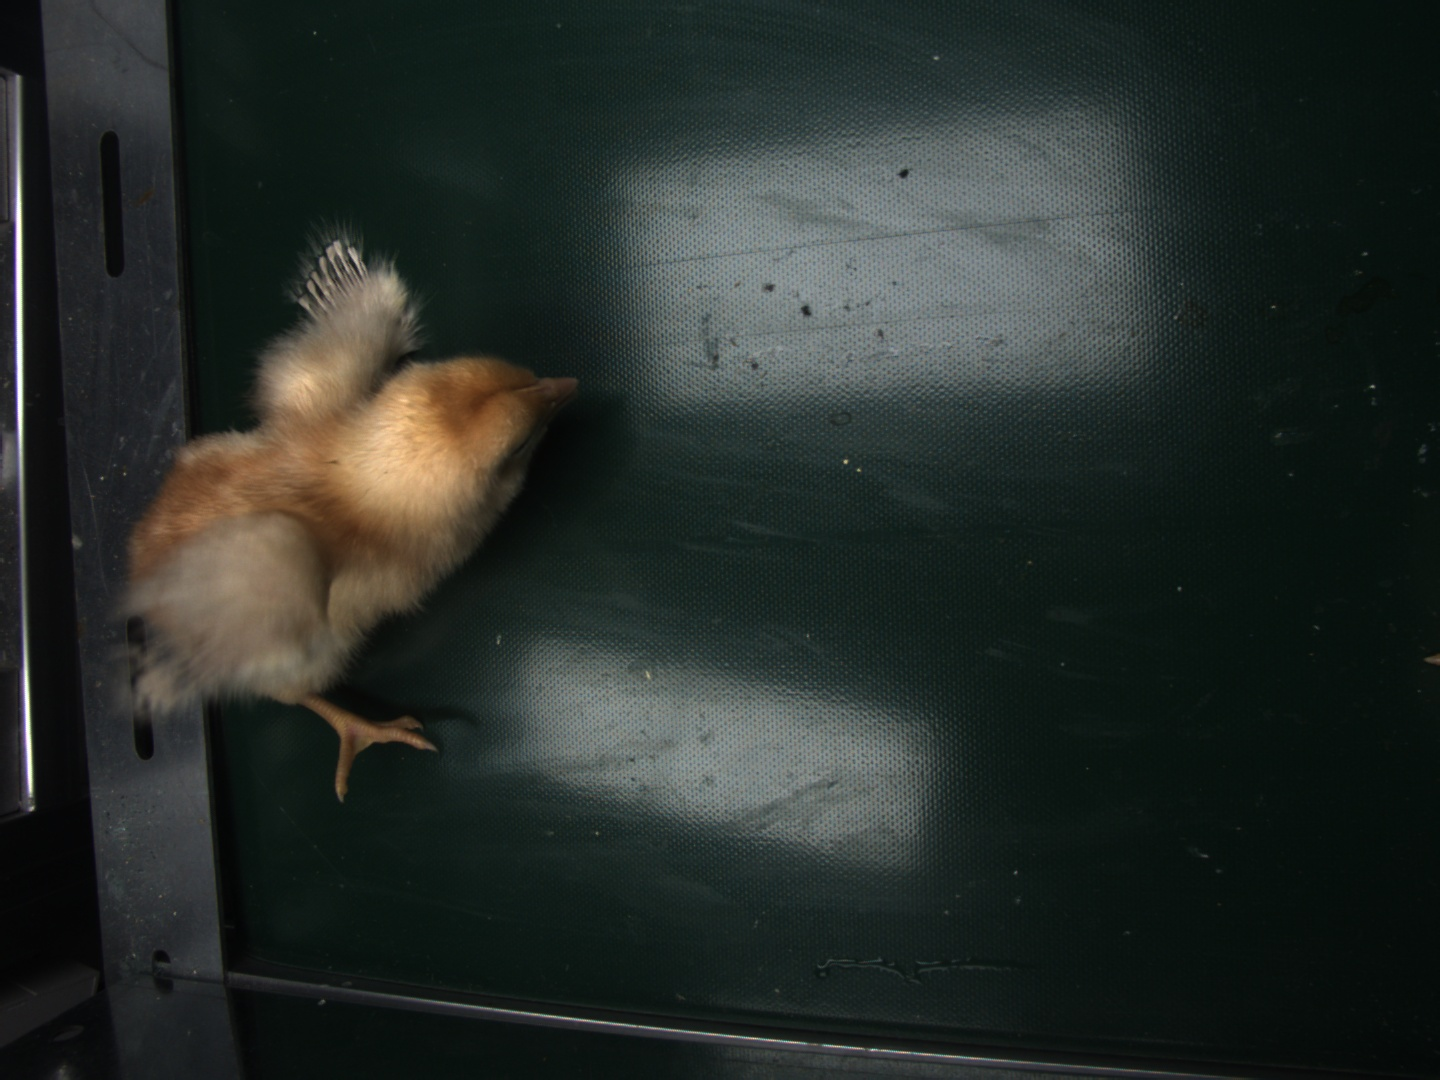female: (303, 239, 378, 317)
